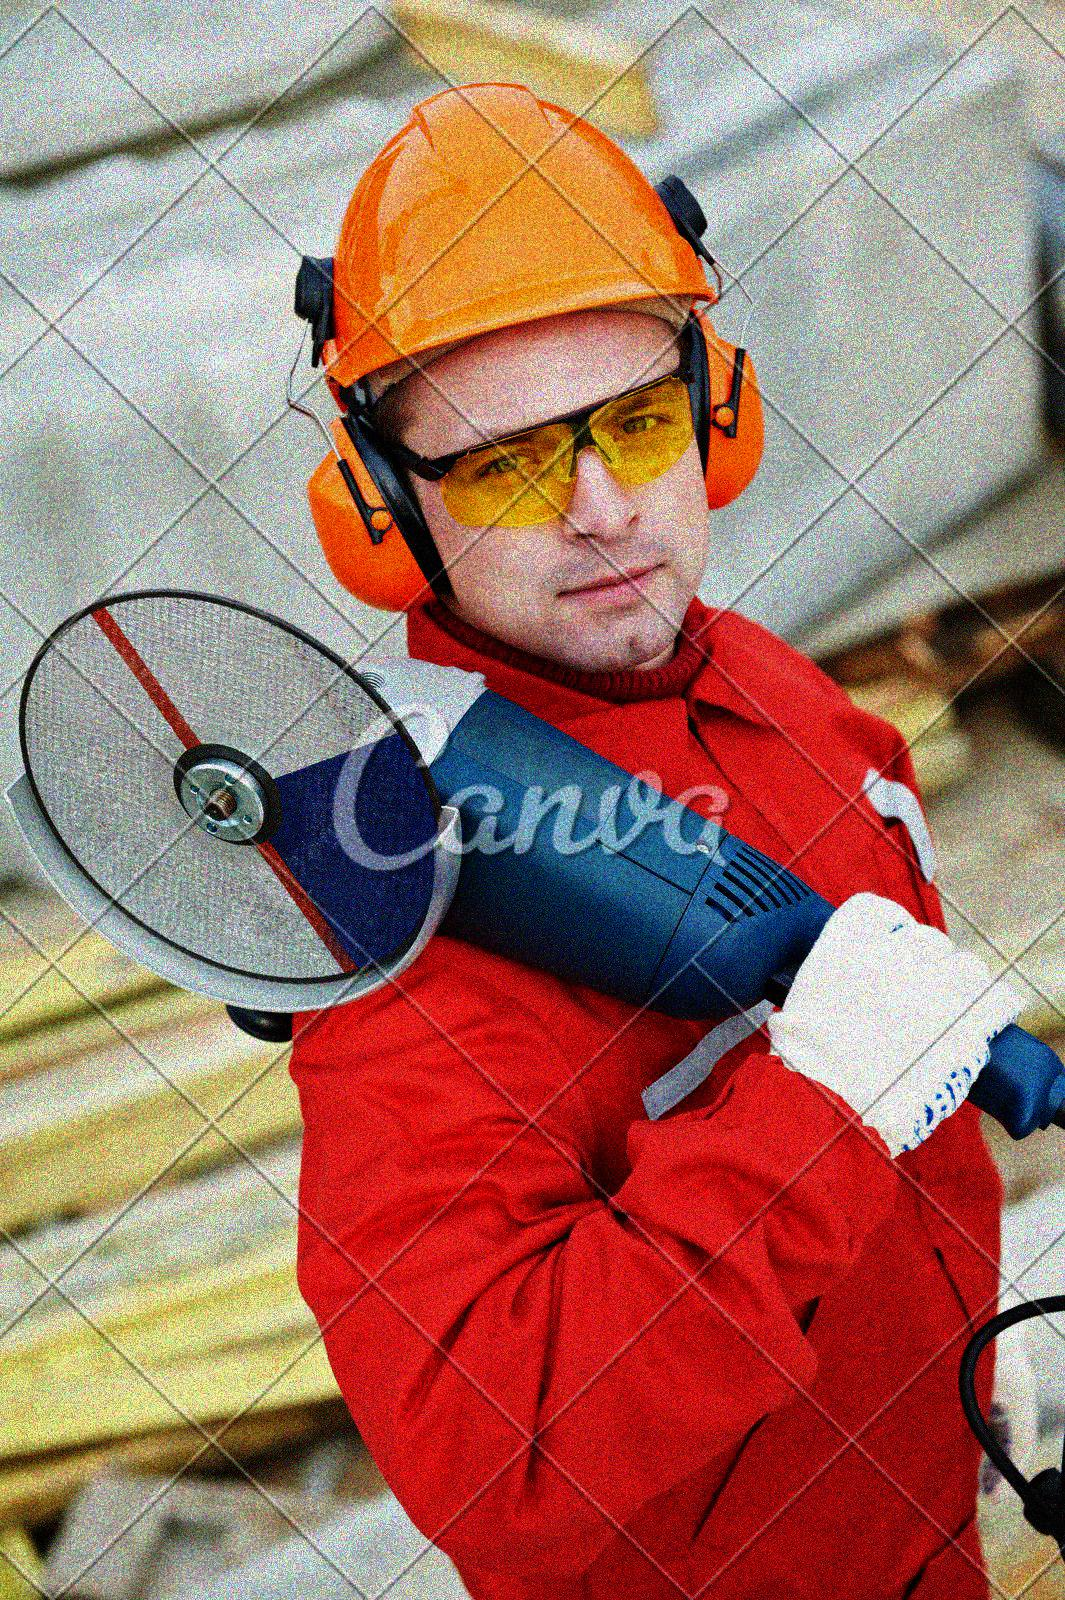helmet: (282, 77, 760, 689)
